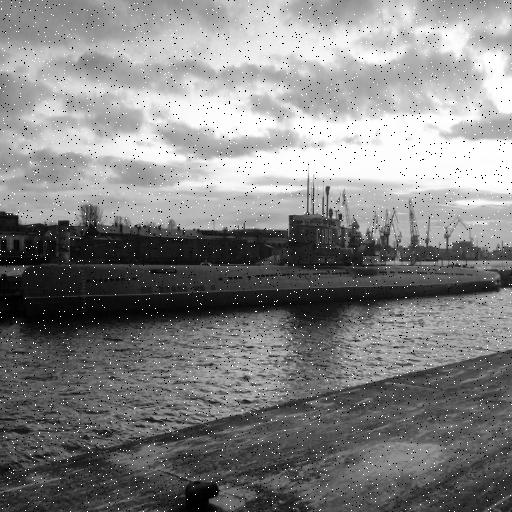submarine: (22, 219, 502, 301)
